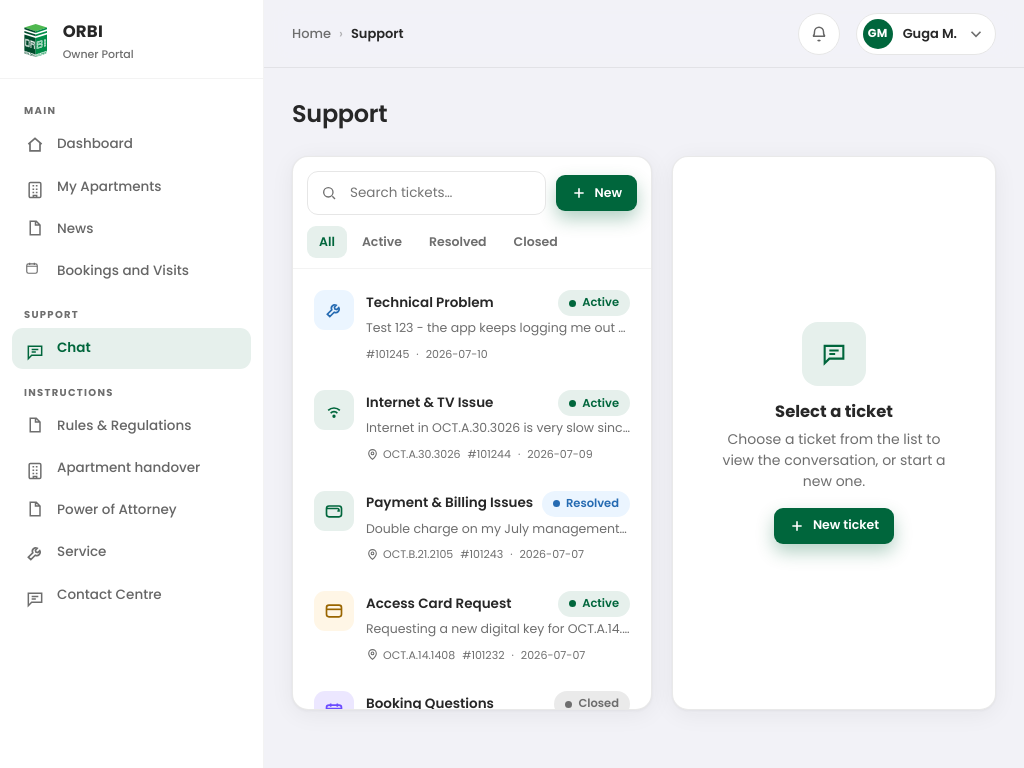
Test: filters tickets by status tab
Expected: the text "Technical Problem" is shown, [366,293,494,313]
Click the tab "Resolved".
click(458, 242)  # box [417,226,499,258]
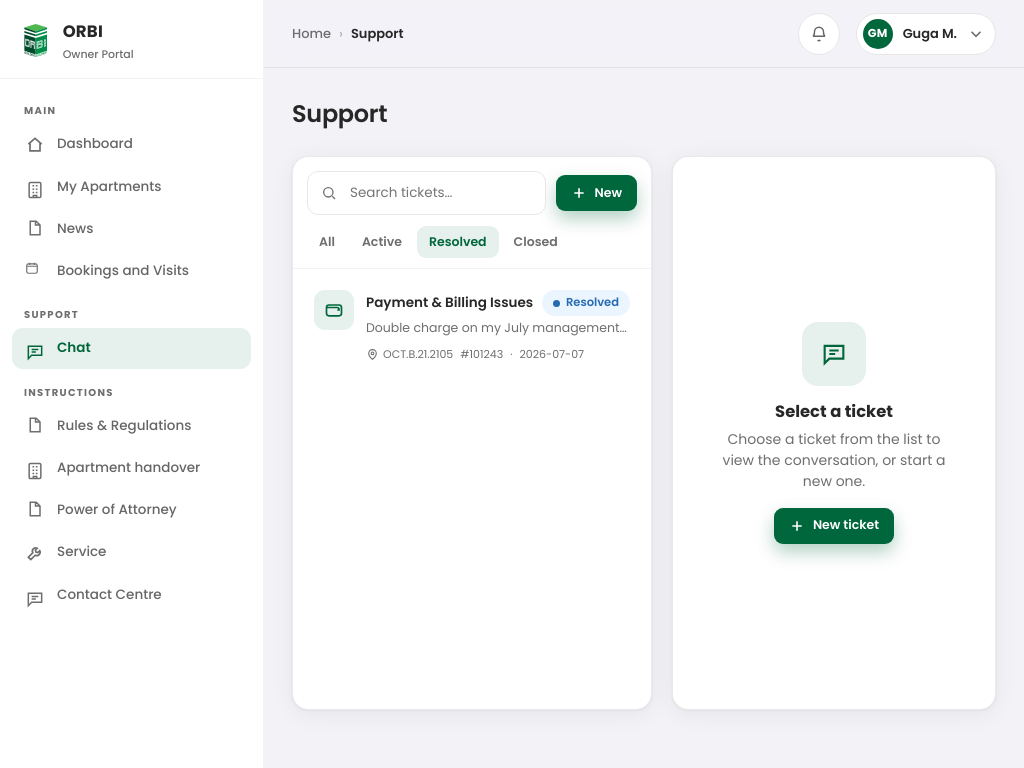
Result: the link "Technical Problem" is gone
